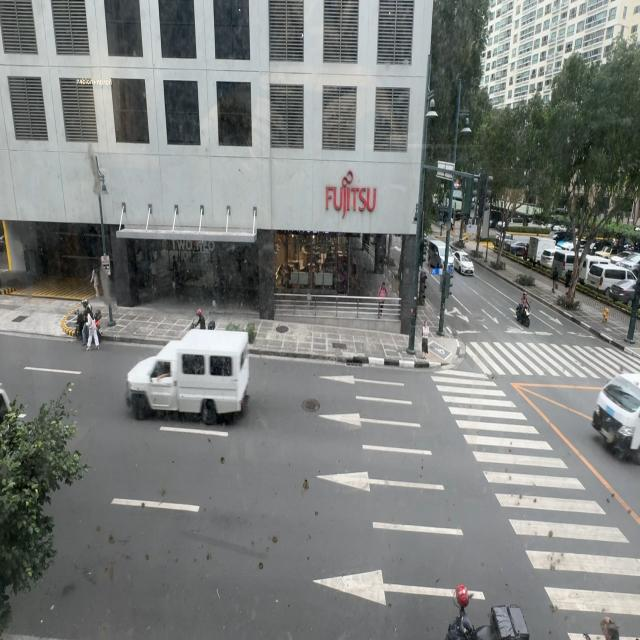pedestrain: (378, 282, 388, 319), (552, 266, 558, 292)
waiting: (422, 319, 429, 359)
